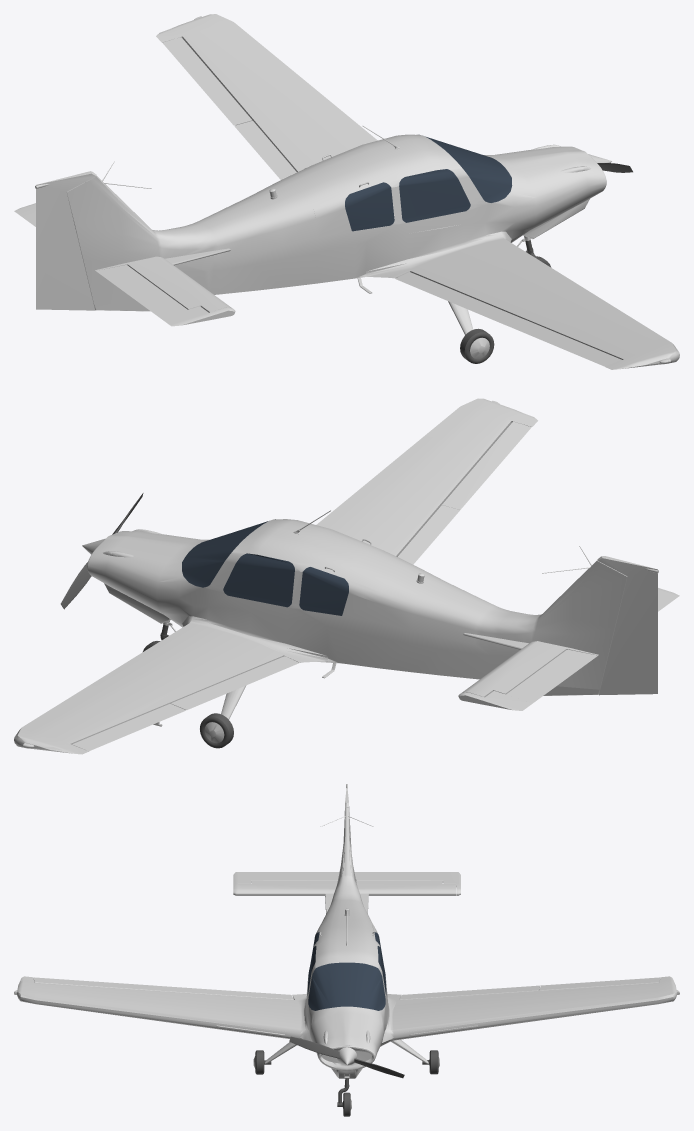
The model's file is pup.glb.
3 renders of one model, top to bottom at view 1: azimuth 30°, elevation 25°; view 2: azimuth 150°, elevation 25°; view 3: azimuth 270°, elevation 25°, orthographic. The views are drawn at different scales.
Parts seen in each view (by area): view 1: body, glass, trim; view 2: body, glass, trim, spin; view 3: body, glass, trim, spin.
Part boxes in pixels (x1,y1,x2,y2): body: (14,14,679,369); glass: (345,134,512,231); trim: (460,240,551,363); body: (14,398,679,754); glass: (182,519,348,615); trim: (143,624,233,748); spin: (60,493,143,609); body: (14,784,679,1109); glass: (307,932,386,1010); trim: (255,1050,438,1116); spin: (289,1036,404,1078).
Size of the model in its own units: 1.56 by 0.583 by 2.2.
